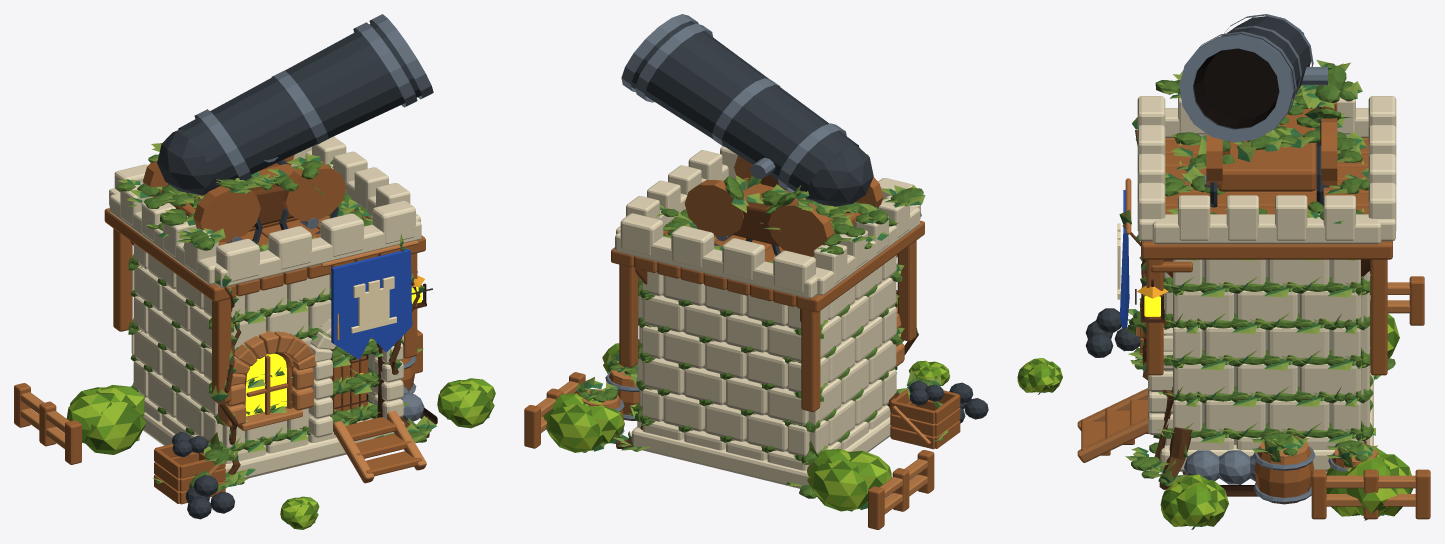
The model's file is bombarding_tower.glb.
The picture shows the model from 3 angles, left to right: view 1: azimuth 30°, elevation 25°; view 2: azimuth 150°, elevation 25°; view 3: azimuth 270°, elevation 25°; orthographic projection. The views are drawn at different scales.
Visible parts, largest first — view 1: Runtime surface 001, Runtime surface 002, Runtime surface 008, Runtime surface 000, Runtime surface 009, Runtime surface 003, Runtime surface 007, Runtime surface 022, Runtime surface 028, Runtime surface 021, Runtime surface 027, Runtime surface 006 (+8 smaller); view 2: Runtime surface 001, Runtime surface 002, Runtime surface 008, Runtime surface 003, Runtime surface 007, Runtime surface 022, Runtime surface 028, Runtime surface 021, Runtime surface 000, Runtime surface 023, Runtime surface 027, Runtime surface 013 (+3 smaller); view 3: Runtime surface 001, Runtime surface 002, Runtime surface 007, Runtime surface 003, Runtime surface 028, Runtime surface 019, Runtime surface 000, Runtime surface 006, Runtime surface 008, Runtime surface 027, Runtime surface 022, Runtime surface 023 (+7 smaller).
Boxes of the visible parts, x1,y1,x2,y2 form: Runtime surface 001: [109, 136, 421, 478]; Runtime surface 002: [14, 154, 425, 504]; Runtime surface 008: [157, 22, 421, 519]; Runtime surface 000: [20, 240, 426, 499]; Runtime surface 009: [331, 249, 412, 359]; Runtime surface 003: [194, 14, 433, 393]; Runtime surface 007: [128, 256, 379, 491]; Runtime surface 022: [67, 380, 492, 529]; Runtime surface 028: [116, 154, 431, 484]; Runtime surface 021: [66, 378, 495, 529]; Runtime surface 027: [118, 143, 436, 486]; Runtime surface 006: [132, 254, 489, 522]; Runtime surface 001: [615, 146, 920, 488]; Runtime surface 002: [524, 155, 960, 529]; Runtime surface 008: [631, 21, 988, 423]; Runtime surface 003: [605, 14, 846, 434]; Runtime surface 007: [578, 268, 943, 464]; Runtime surface 022: [543, 349, 949, 511]; Runtime surface 028: [660, 176, 923, 498]; Runtime surface 021: [548, 343, 949, 511]; Runtime surface 000: [536, 303, 930, 514]; Runtime surface 023: [545, 349, 949, 511]; Runtime surface 027: [612, 154, 925, 486]; Runtime surface 013: [635, 175, 900, 322]; Runtime surface 001: [1137, 91, 1396, 471]; Runtime surface 002: [1081, 102, 1430, 519]; Runtime surface 007: [1128, 272, 1374, 466]; Runtime surface 003: [1179, 14, 1348, 503]; Runtime surface 028: [1131, 63, 1395, 484]; Runtime surface 019: [1193, 48, 1279, 128]; Runtime surface 000: [1077, 178, 1415, 506]; Runtime surface 006: [1028, 142, 1384, 528]; Runtime surface 008: [1085, 16, 1323, 357]; Runtime surface 027: [1120, 60, 1380, 485]; Runtime surface 022: [1017, 319, 1411, 526]; Runtime surface 023: [1017, 318, 1412, 526].
Size of the model in its own units: 4.58 by 4.67 by 3.79.
26 materials, 8 textured.
